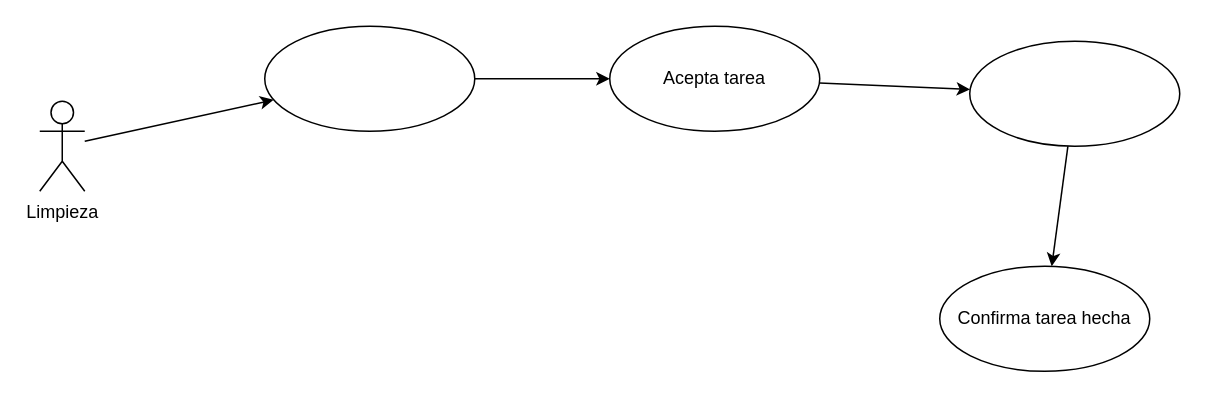
Some shapes in this 1206 by 398 pixel diagram are drawn without their labels. The centre of each missing label's shape, as x and y in pixels:
"Consulta tarea" goes at (x=369, y=78).
"Limpia habitación" goes at (x=1074, y=93).
